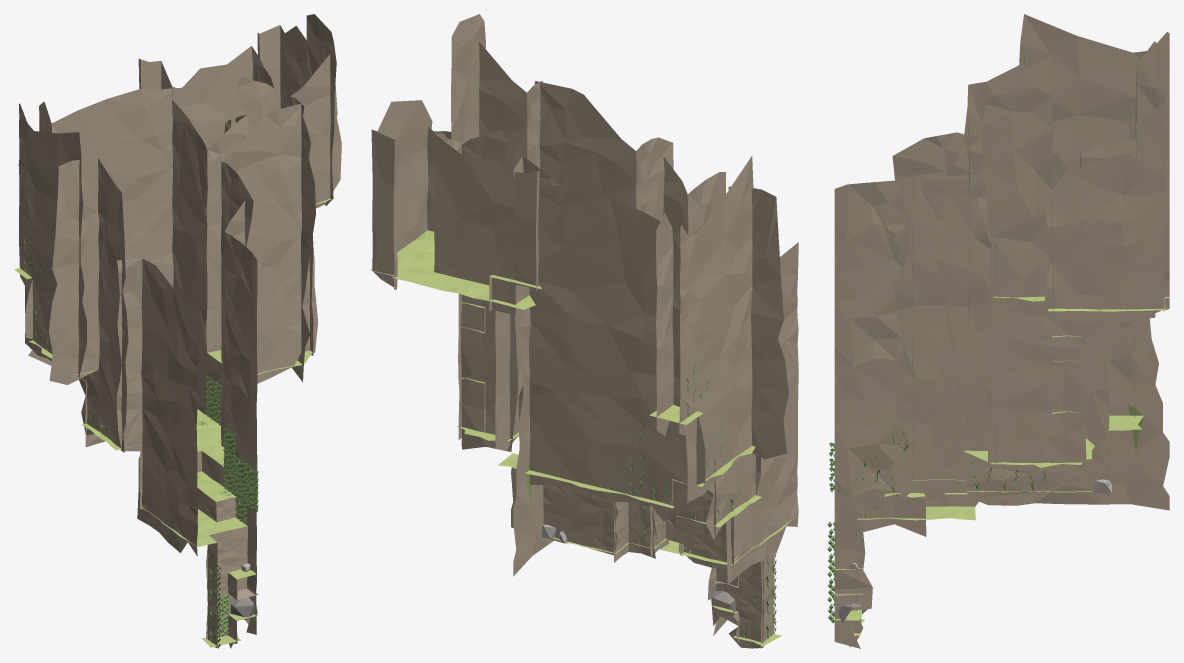
The picture shows the model from 3 angles, left to right: view 1: azimuth 30°, elevation 25°; view 2: azimuth 150°, elevation 25°; view 3: azimuth 270°, elevation 25°; orthographic projection. The views are drawn at different scales.
Visible parts, largest first — view 1: toDelete; view 2: toDelete; view 3: toDelete.
Boxes of the visible parts, x1,y1,x2,y2 form: toDelete: [14, 14, 341, 648]; toDelete: [370, 14, 798, 648]; toDelete: [827, 14, 1169, 648].
Size of the model in its own units: 15.05 by 25.86 by 12.25.
1 material, 1 textured.
